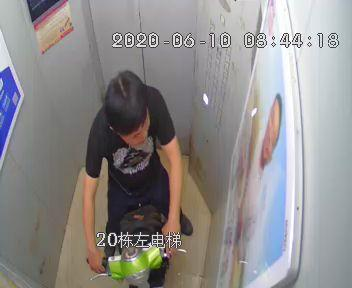Electric-bicycle: (85, 225, 188, 287)
